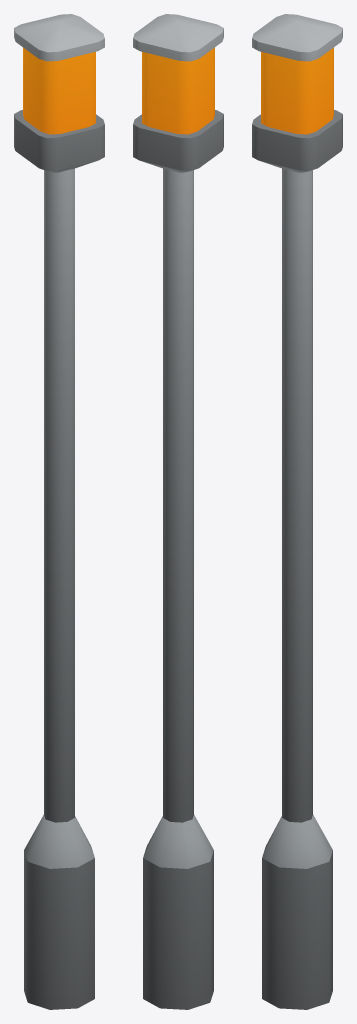
The model's file is Lamp_03.glb.
3 renders of one model, left to right at view 1: azimuth 30°, elevation 25°; view 2: azimuth 150°, elevation 25°; view 3: azimuth 330°, elevation 25°, orthographic.
Parts seen in each view (by area): view 1: Lamp_03; view 2: Lamp_03; view 3: Lamp_03.
Part boxes in pixels (x1,y1,x2,y2): Lamp_03: [14, 14, 104, 1009]; Lamp_03: [133, 14, 223, 1009]; Lamp_03: [252, 14, 342, 1009].
Size of the model in its own units: 0.3235 by 4.63 by 0.3235.
2 materials, 2 textured.
